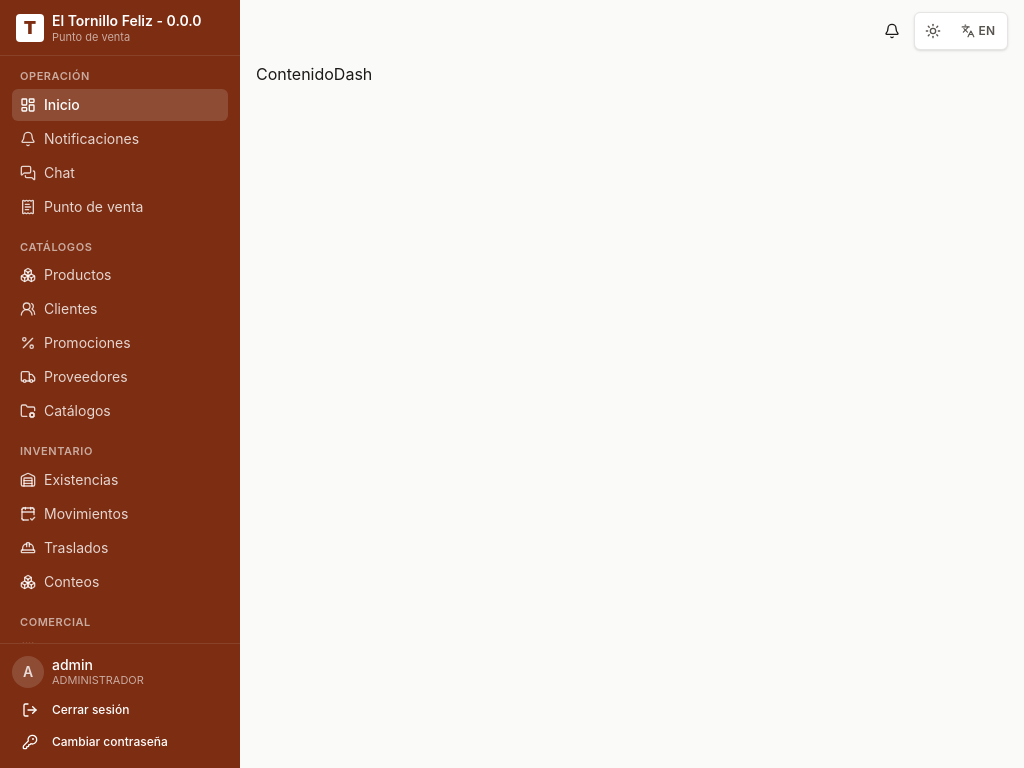
Scenario: AppShell › valida la nueva contraseña (mínimo 8 y confirmación)
This screenshot has width=1024, height=768.
Click the button "Cambiar contraseña" at (120, 742), box [12,728,228,756]
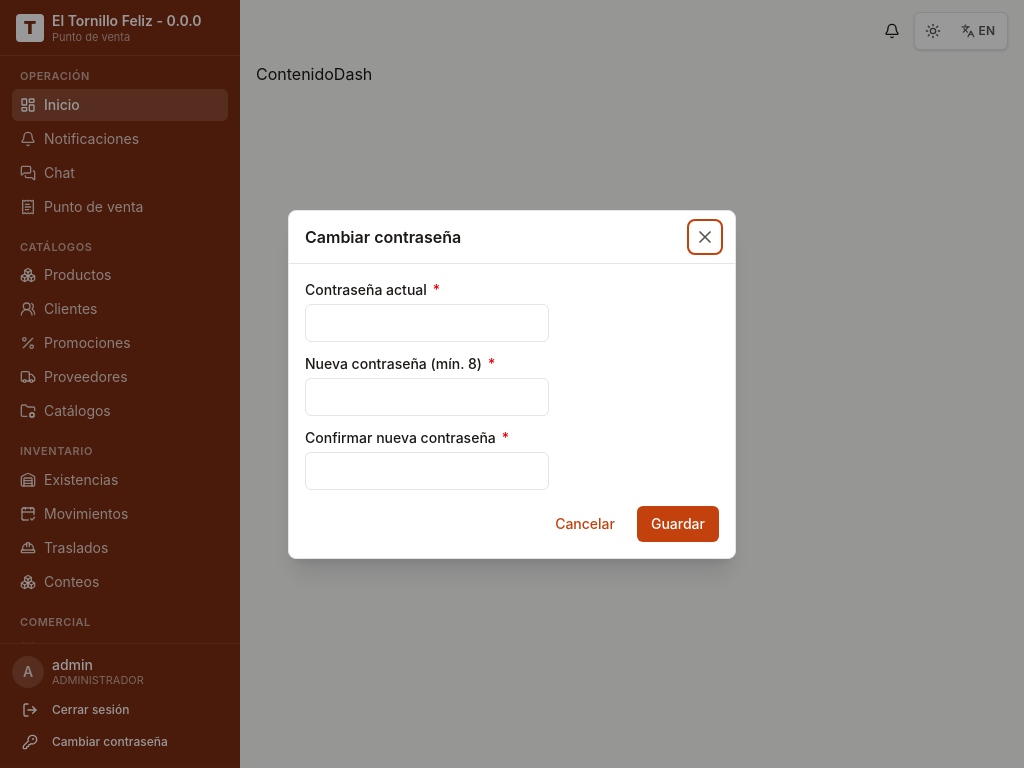
Now the dialog "Cambiar contraseña" is shown, box [288,210,736,558]
// El label incluye " *" por required: se busca por regex.
Type "anterior1" into the password field labelled "Contraseña actual *" at (427, 322), box [305,304,549,342]
Type "corta" into the password field labelled "Nueva contraseña (mín. 8) *" at (427, 396), box [305,378,549,416]
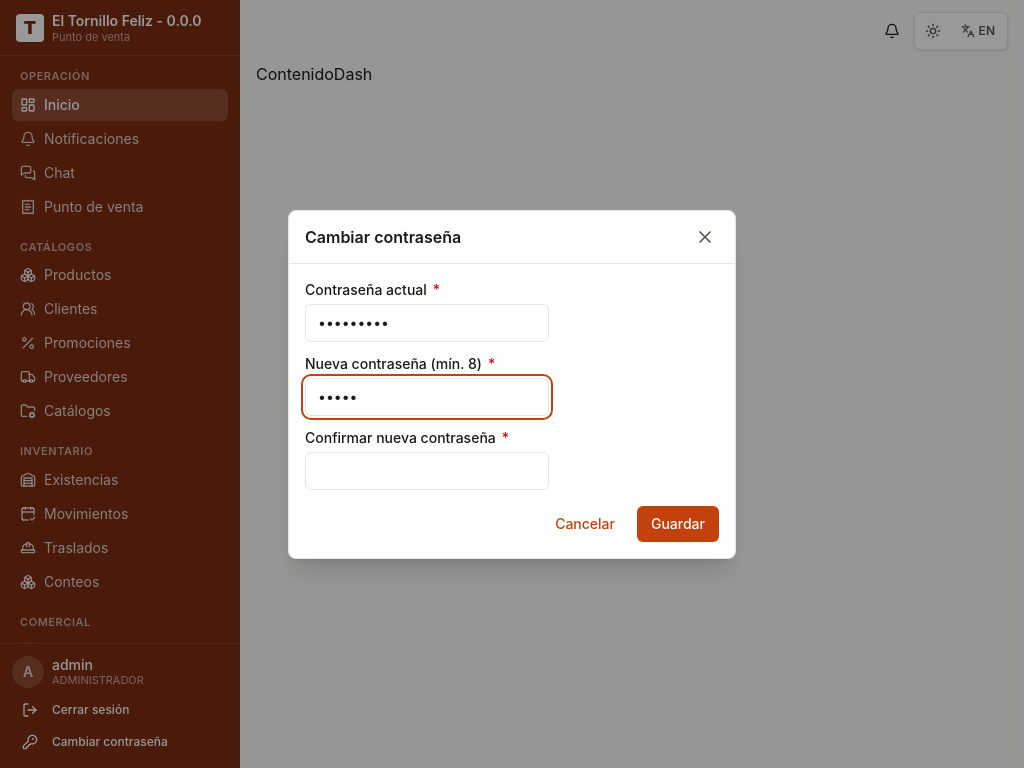
Type "corta" into the password field labelled "Confirmar nueva contraseña *" at (427, 470), box [305,452,549,490]
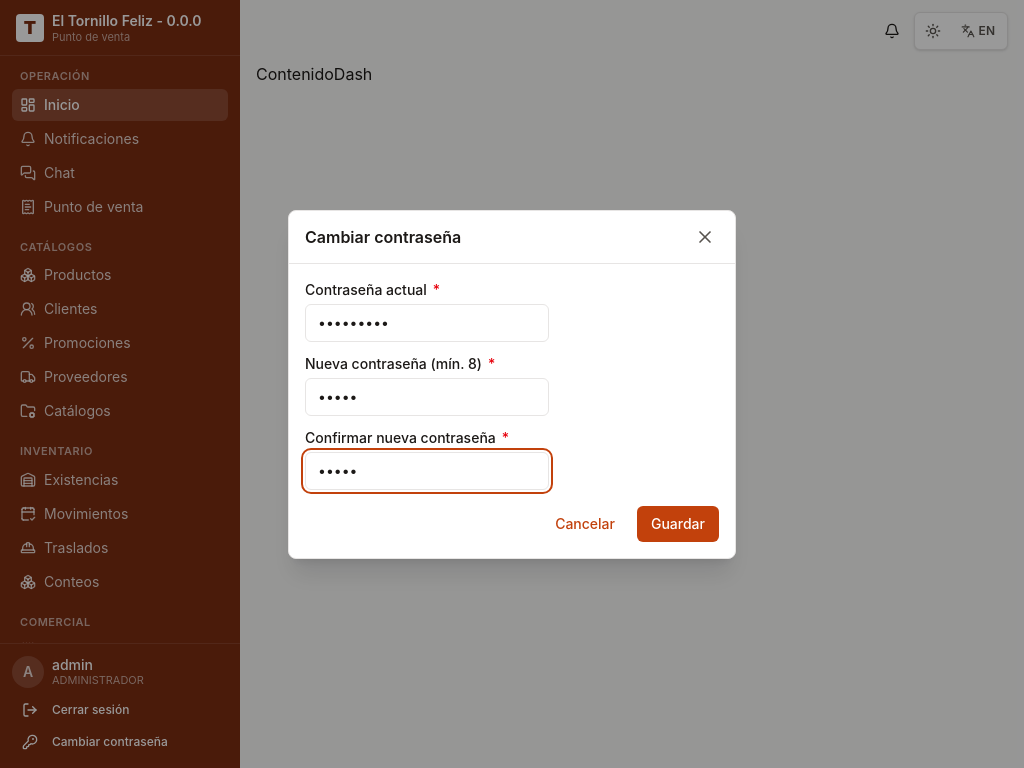
Click the button "Guardar" at (678, 524), box [637,506,719,542]
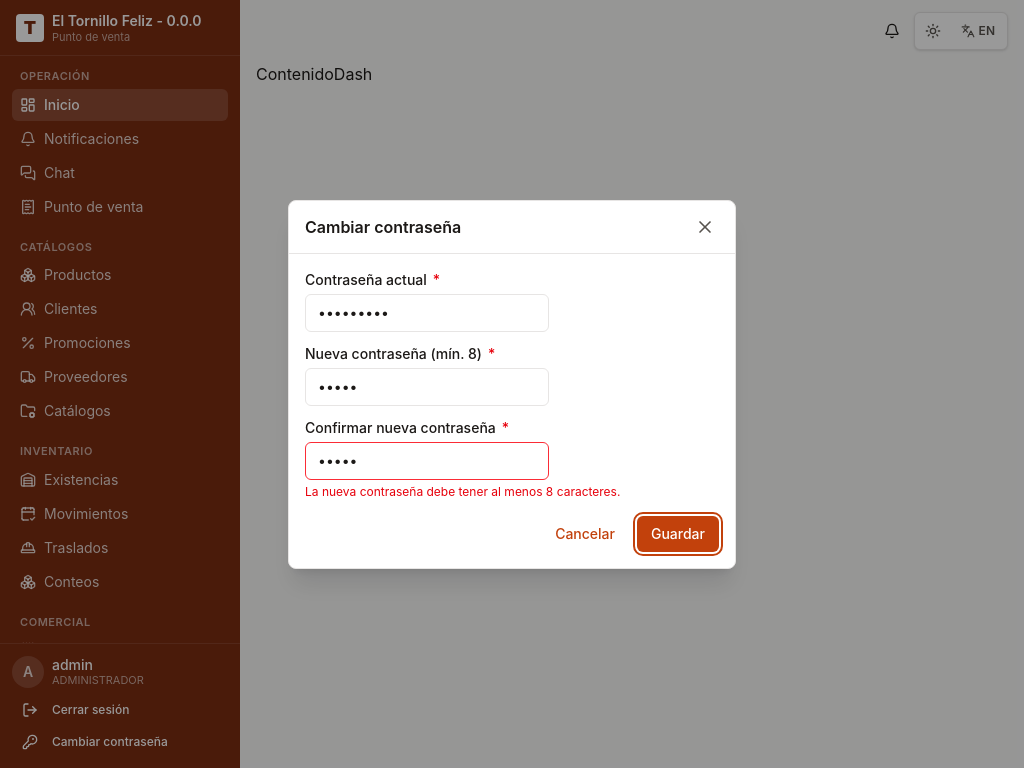
Now the text "La nueva contraseña debe tener al menos 8 caracteres." is shown, box [305,484,620,498]
Type "nueva1234" into the password field labelled "Nueva contraseña (mín. 8) *" at (427, 386), box [305,368,549,406]
Type "otra1234" into the password field labelled "Confirmar nueva contraseña" at (427, 460), box [305,442,549,480]
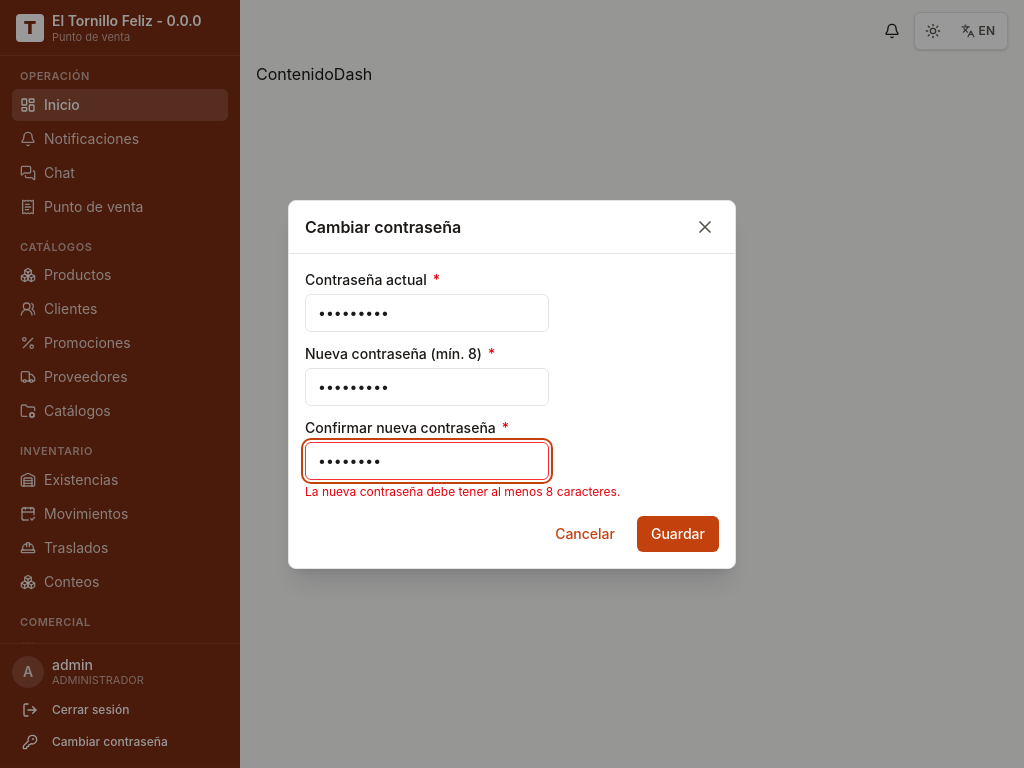
Click the button "Guardar" at (678, 534), box [637,516,719,552]
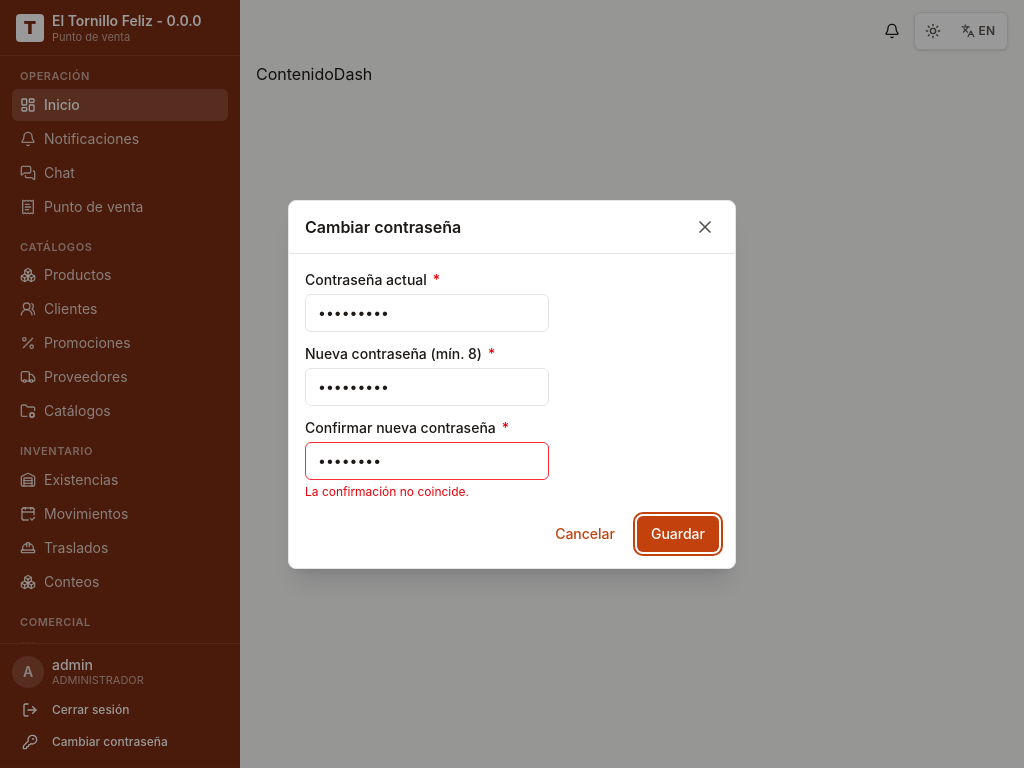
Now the text "La confirmación no coincide." is shown, box [305,484,469,498]
